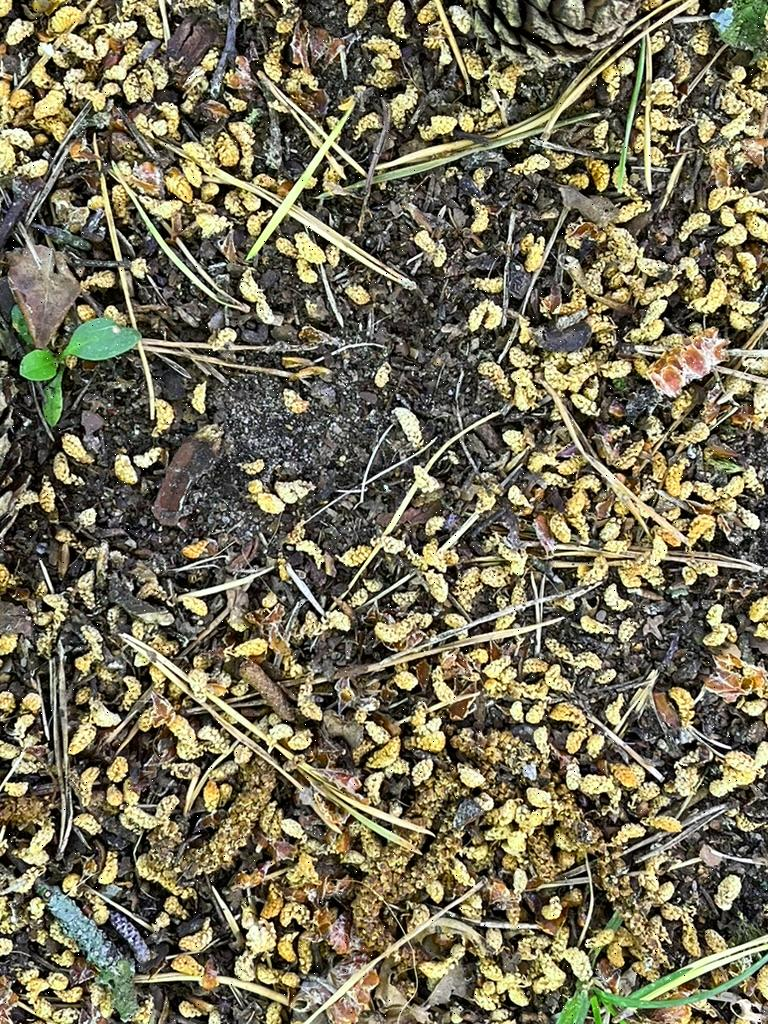pine: (471, 0, 653, 83)
